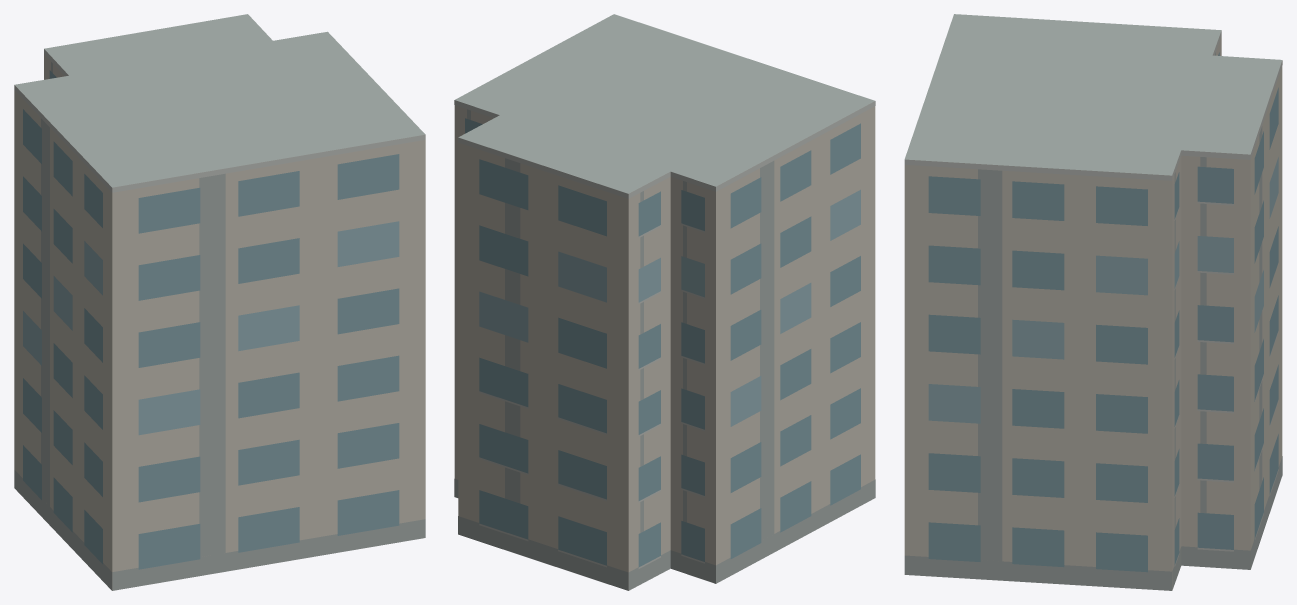
File: survey-upis-32902076.glb
The picture shows the model from 3 angles, left to right: view 1: azimuth 30°, elevation 25°; view 2: azimuth 150°, elevation 25°; view 3: azimuth 270°, elevation 25°; orthographic projection. The views are drawn at different scales.
Parts seen in each view (by area): view 1: survey-upis-32902076.tmp; view 2: survey-upis-32902076.tmp; view 3: survey-upis-32902076.tmp.
Boxes of the visible parts, <box> form: survey-upis-32902076.tmp: <box>14,14,425,590</box>; survey-upis-32902076.tmp: <box>454,14,875,590</box>; survey-upis-32902076.tmp: <box>904,14,1282,590</box>.
Size of the model in its own units: 15.78 by 18.9 by 15.6.
